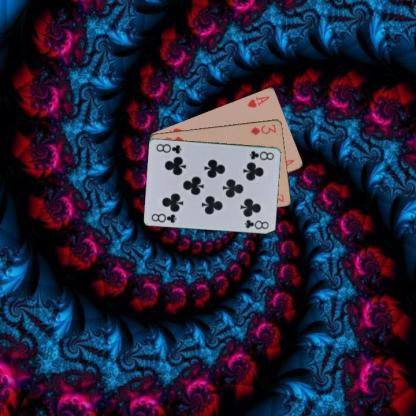3d: (248, 122, 277, 136)
8c: (247, 148, 275, 161), (149, 211, 178, 223)
Ah: (244, 93, 271, 109)
